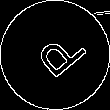P_SW: (24, 25, 86, 85)
